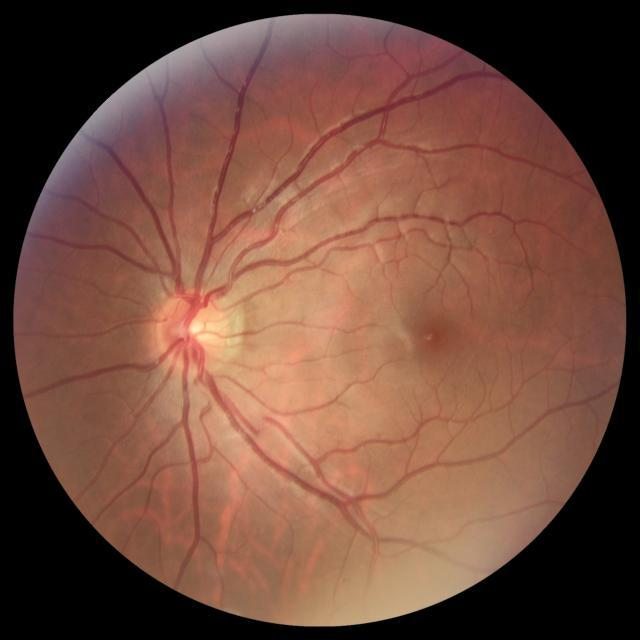OC: (178, 313, 212, 343)
OD: (157, 289, 236, 372)
